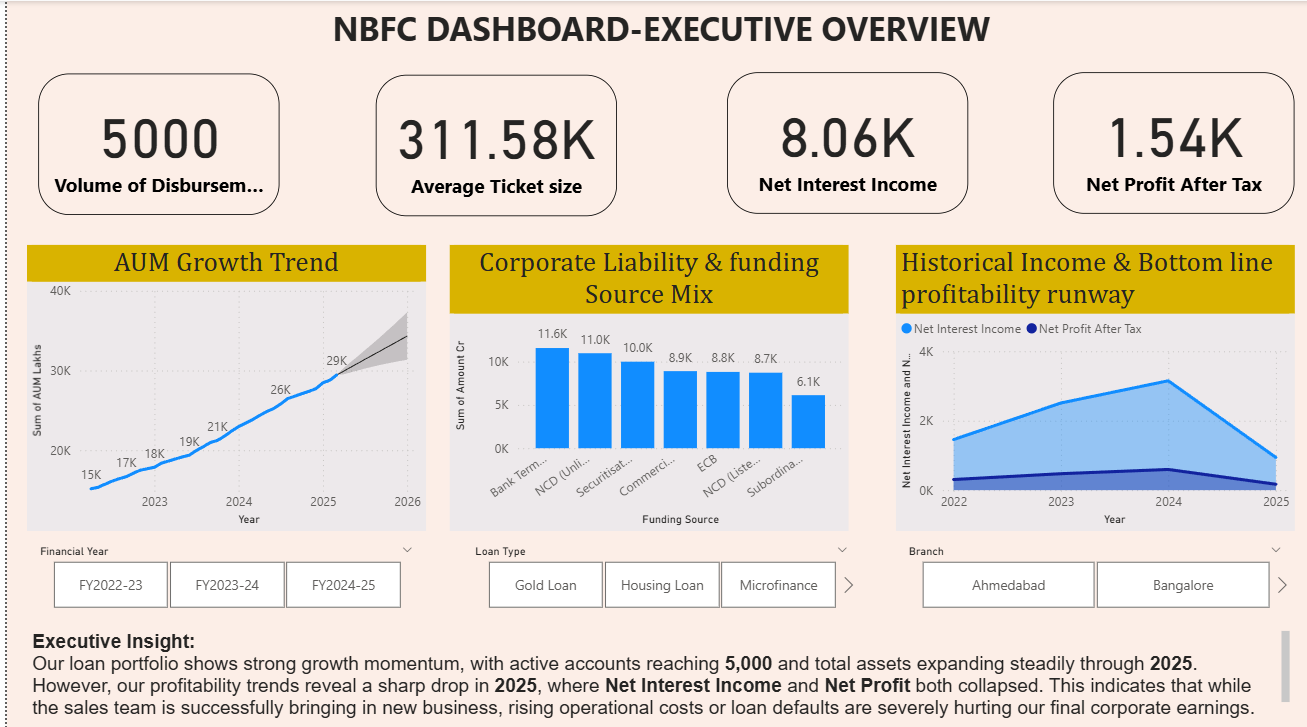

This screenshot's page, from the dashboard's own definition file:
{"tool":"powerbi","page":{"name":"Executive Overview","canvas":[1280,720],"ordinal":0},"visuals":[{"type":"lineChart","title":"AUM Growth Trend","fields":{"Y":["Sum(5_PnL_Monthly.AUM Lakhs)"],"Category":["5_PnL_Monthly.Month.Variation.Date Hierarchy.Year","5_PnL_Monthly.Month.Variation.Date Hierarchy.Month","5_PnL_Monthly.Month.Variation.Date Hierarchy.Day"]},"box":[19.6,238.5,390.1,280],"z":0},{"type":"clusteredColumnChart","title":"Corporate Liability & funding Source Mix","fields":{"Category":["6_Funding_Sources.Funding Source"],"Y":["Sum(6_Funding_Sources.Amount Cr)"]},"box":[432.9,238.5,390.1,280],"z":1000},{"type":"textbox","box":[20,611.5,1240.1,108.3],"z":2000},{"type":"card","fields":{"Values":["1_Disbursement.Total disbursments(in numbers)"]},"box":[30.6,70.9,236,138.2],"z":3000},{"type":"card","fields":{"Values":["1_Disbursement.Average Ticket size"]},"box":[360.7,72.1,236,138.2],"z":4000},{"type":"card","fields":{"Values":["5_PnL_Monthly.Net Interest Income"]},"box":[704.4,69.7,236,138.2],"z":5000},{"type":"card","fields":{"Values":["5_PnL_Monthly.Net Profit After Tax"]},"box":[1023.5,70,236,138.2],"z":6000},{"type":"areaChart","title":"Historical Income & Bottom line profitability runway","fields":{"Category":["5_PnL_Monthly.Month.Variation.Date Hierarchy.Year","5_PnL_Monthly.Month.Variation.Date Hierarchy.Quarter","5_PnL_Monthly.Month.Variation.Date Hierarchy.Month","5_PnL_Monthly.Month.Variation.Date Hierarchy.Day"],"Y":["5_PnL_Monthly.Net Interest Income","5_PnL_Monthly.Net Profit After Tax"]},"box":[869.4,238.5,390.1,280],"z":7000},{"type":"slicer","fields":{"Values":["Dim Bridge.Branch"]},"box":[869.6,527.3,389.6,73.7],"z":8000},{"type":"slicer","fields":{"Values":["Dim_LoanType.Loan Type"]},"box":[445.2,527.3,389.6,73.7],"z":9000},{"type":"slicer","fields":{"Values":["Dim_FinancialYear.Financial Year"]},"box":[19.5,527.3,389.6,73.7],"z":10000},{"type":"textbox","box":[0,0,1280,69.6],"z":11000}]}

Visuals, with their boxes in screenshot pixels (x1, y1, x2, y2), scaled from the page's 1280x720 canvas onto the 1307x727 screenshot:
"AUM Growth Trend" lineChart: box(20, 241, 418, 524)
"Corporate Liability & funding Source Mix" clusteredColumnChart: box(442, 241, 840, 524)
textbox: box(20, 617, 1287, 726)
card - 1_Disbursement.Total disbursments(in numbers): box(31, 72, 272, 211)
card - 1_Disbursement.Average Ticket size: box(368, 73, 609, 212)
card - 5_PnL_Monthly.Net Interest Income: box(719, 70, 960, 210)
card - 5_PnL_Monthly.Net Profit After Tax: box(1045, 71, 1286, 210)
"Historical Income & Bottom line profitability runway" areaChart: box(888, 241, 1286, 524)
slicer - Dim Bridge.Branch: box(888, 532, 1286, 607)
slicer - Dim_LoanType.Loan Type: box(455, 532, 852, 607)
slicer - Dim_FinancialYear.Financial Year: box(20, 532, 418, 607)
textbox: box(0, 0, 1306, 70)
